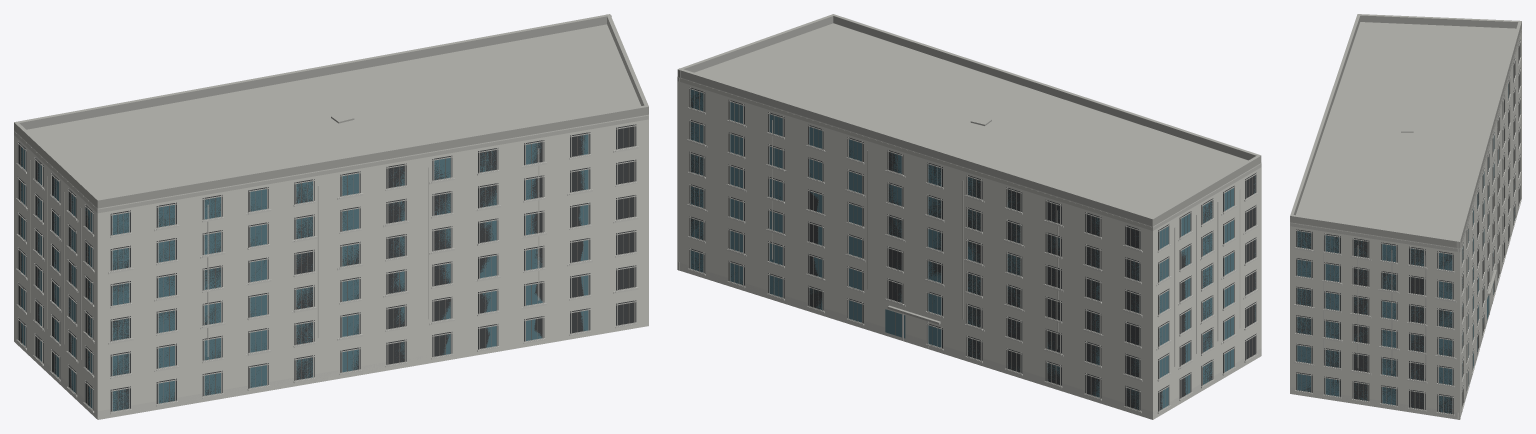
File: cop_residencial_compacto_01__way_227727238.fbx
3 renders of one model, left to right at view 1: azimuth 30°, elevation 25°; view 2: azimuth 150°, elevation 25°; view 3: azimuth 270°, elevation 25°, orthographic. The views are drawn at different scales.
Visible parts, largest first — view 1: cop_residencial_compacto_01__way_227727238_wall, cop_residencial_compacto_01__way_227727238_roof, cop_residencial_compacto_01__way_227727238_shadow, cop_residencial_compacto_01__way_227727238_glass, cop_residencial_compacto_01__way_227727238_trim, cop_residencial_compacto_01__way_227727238_stone, cop_residencial_compacto_01__way_227727238_metal; view 2: cop_residencial_compacto_01__way_227727238_wall, cop_residencial_compacto_01__way_227727238_roof, cop_residencial_compacto_01__way_227727238_shadow, cop_residencial_compacto_01__way_227727238_glass, cop_residencial_compacto_01__way_227727238_trim, cop_residencial_compacto_01__way_227727238_stone, cop_residencial_compacto_01__way_227727238_metal; view 3: cop_residencial_compacto_01__way_227727238_roof, cop_residencial_compacto_01__way_227727238_wall, cop_residencial_compacto_01__way_227727238_shadow, cop_residencial_compacto_01__way_227727238_trim, cop_residencial_compacto_01__way_227727238_glass, cop_residencial_compacto_01__way_227727238_stone, cop_residencial_compacto_01__way_227727238_metal.
Part boxes in pixels (x1,y1,x2,y2): cop_residencial_compacto_01__way_227727238_wall: (14, 114, 648, 419); cop_residencial_compacto_01__way_227727238_roof: (14, 14, 648, 208); cop_residencial_compacto_01__way_227727238_shadow: (18, 124, 636, 412); cop_residencial_compacto_01__way_227727238_glass: (21, 134, 588, 411); cop_residencial_compacto_01__way_227727238_trim: (14, 115, 648, 412); cop_residencial_compacto_01__way_227727238_stone: (16, 146, 648, 419); cop_residencial_compacto_01__way_227727238_metal: (20, 127, 629, 410); cop_residencial_compacto_01__way_227727238_wall: (677, 76, 1261, 419); cop_residencial_compacto_01__way_227727238_roof: (677, 14, 1261, 324); cop_residencial_compacto_01__way_227727238_shadow: (689, 87, 1256, 411); cop_residencial_compacto_01__way_227727238_glass: (690, 89, 1255, 409); cop_residencial_compacto_01__way_227727238_trim: (677, 77, 1261, 412); cop_residencial_compacto_01__way_227727238_stone: (677, 107, 1261, 419); cop_residencial_compacto_01__way_227727238_metal: (694, 91, 1252, 408); cop_residencial_compacto_01__way_227727238_roof: (1290, 14, 1521, 295); cop_residencial_compacto_01__way_227727238_wall: (1290, 30, 1521, 419); cop_residencial_compacto_01__way_227727238_shadow: (1296, 39, 1520, 414); cop_residencial_compacto_01__way_227727238_trim: (1290, 28, 1521, 414); cop_residencial_compacto_01__way_227727238_glass: (1297, 84, 1520, 413); cop_residencial_compacto_01__way_227727238_stone: (1290, 57, 1521, 419); cop_residencial_compacto_01__way_227727238_metal: (1301, 44, 1519, 413).
Size of the model in its own units: 5132 by 1869 by 2204.
